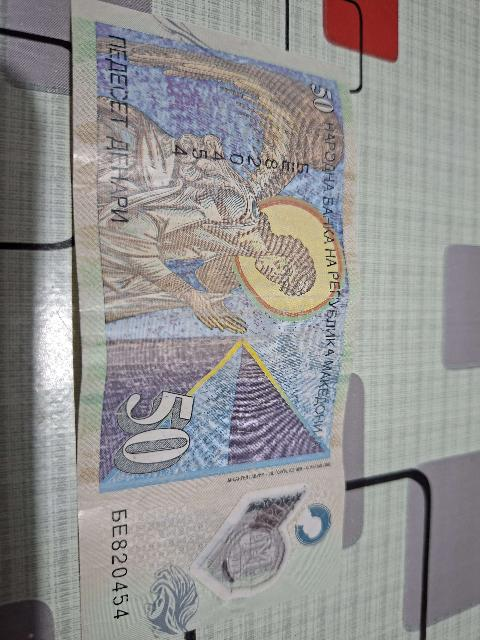note: (48, 0, 385, 639)
